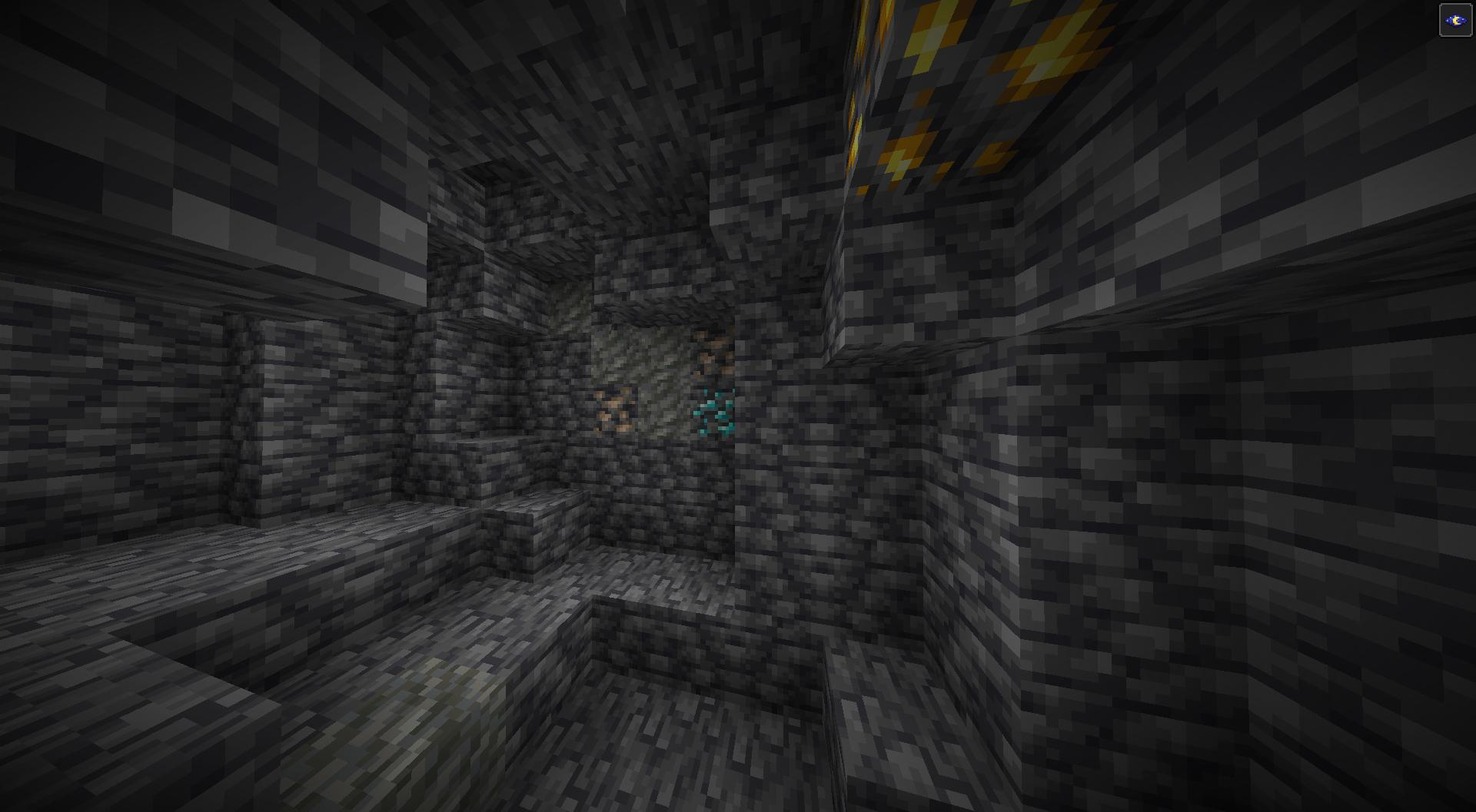diamond ore: (689, 385, 742, 439)
gold ore: (852, 0, 1097, 198)
iron ore: (689, 326, 742, 385), (589, 388, 636, 437)
